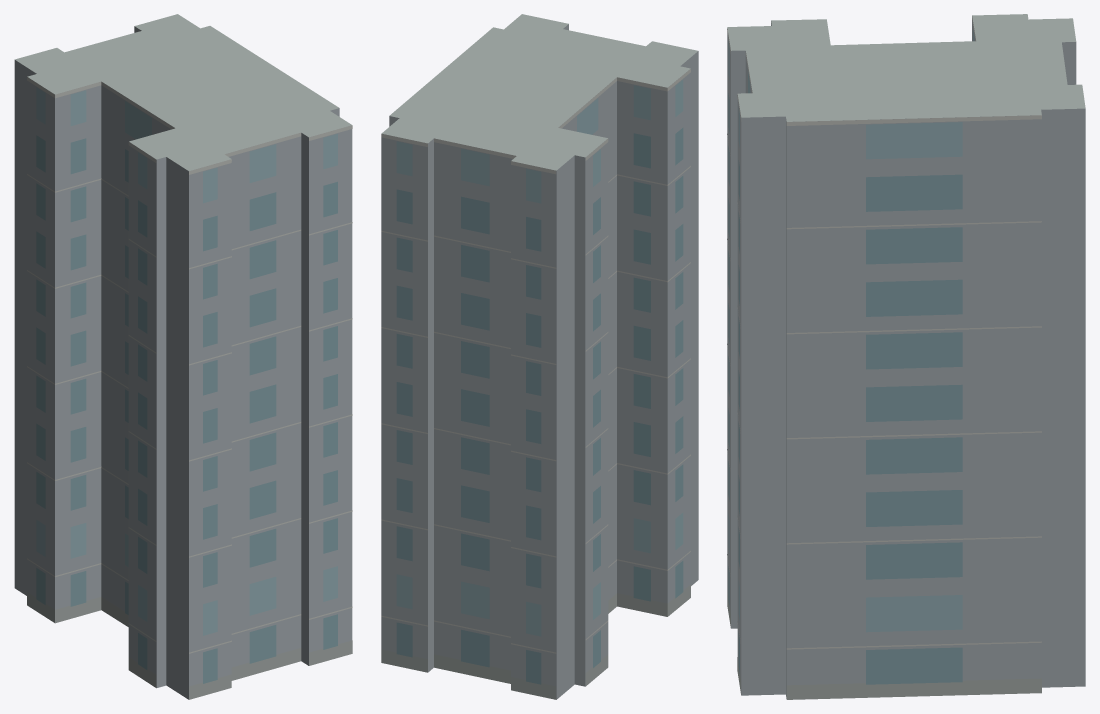
Rendered from survey-upis-32744892.glb.
The picture shows the model from 3 angles, left to right: view 1: azimuth 30°, elevation 25°; view 2: azimuth 150°, elevation 25°; view 3: azimuth 270°, elevation 25°; orthographic projection. The views are drawn at different scales.
Visible parts, largest first — view 1: survey-upis-32744892.tmp; view 2: survey-upis-32744892.tmp; view 3: survey-upis-32744892.tmp.
Part boxes in pixels (x1=…): survey-upis-32744892.tmp: x1=14, y1=14, x2=352, y2=699; survey-upis-32744892.tmp: x1=381, y1=14, x2=698, y2=699; survey-upis-32744892.tmp: x1=727, y1=14, x2=1085, y2=699.
Bounding box in the file's own units: 13.81 × 34.4 × 19.36.
